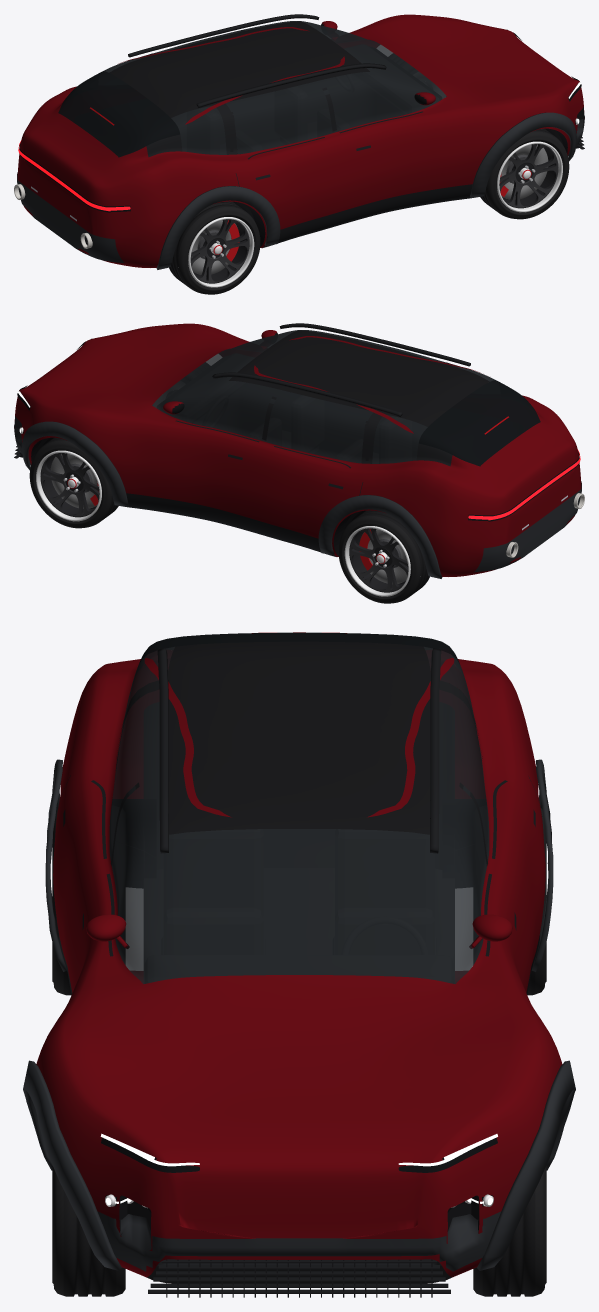
The model's file is vertigo-terra.glb.
3 renders of one model, top to bottom at view 1: azimuth 30°, elevation 25°; view 2: azimuth 150°, elevation 25°; view 3: azimuth 270°, elevation 25°, orthographic. The views are drawn at different scales.
Parts seen in each view (by area): view 1: vertigo-terra_Body, wheel_RR.004, wheel_FR.004, vertigo-terra_CabinTub, vertigo-terra_Rocker_-1, vertigo-terra_ArchFlare_-1_-1.4, vertigo-terra_Dash, vertigo-terra_Diffuser, vertigo-terra_ArchFlare_-1_+1.6, vertigo-terra_SeatBack_0_1, vertigo-terra_SeatBack_1_1, vertigo-terra_Rail_-1 (+7 smaller); view 2: vertigo-terra_Body, wheel_RL.004, wheel_FL.004, vertigo-terra_CabinTub, vertigo-terra_Rocker_1, vertigo-terra_ArchFlare_1_-1.4, vertigo-terra_Diffuser, vertigo-terra_Dash, vertigo-terra_ArchFlare_1_+1.6, vertigo-terra_SeatBack_0_-1, vertigo-terra_SeatBack_1_-1, vertigo-terra_Rail_1 (+7 smaller); view 3: vertigo-terra_Body, vertigo-terra_CabinTub, vertigo-terra_FrontBand, vertigo-terra_SeatBack_1_1, vertigo-terra_SeatBack_1_-1, vertigo-terra_Dash, vertigo-terra_ArchFlare_-1_+1.6, vertigo-terra_ArchFlare_1_+1.6, vertigo-terra_SeatBack_0_-1, wheel_FL.004, wheel_FR.004, vertigo-terra_SeatBack_0_1 (+16 smaller).
Part boxes in pixels (x1,y1,x2,y2): vertigo-terra_Body: (17, 14, 584, 267); wheel_RR.004: (169, 201, 260, 294); wheel_FR.004: (480, 128, 569, 219); vertigo-terra_CabinTub: (134, 47, 441, 151); vertigo-terra_Rocker_-1: (261, 184, 475, 248); vertigo-terra_ArchFlare_-1_-1.4: (156, 186, 280, 269); vertigo-terra_Dash: (345, 45, 439, 113); vertigo-terra_Diffuser: (17, 172, 124, 263); vertigo-terra_ArchFlare_-1_+1.6: (470, 112, 576, 197); vertigo-terra_SeatBack_0_1: (275, 86, 306, 143); vertigo-terra_SeatBack_1_1: (187, 107, 219, 154); vertigo-terra_Rail_-1: (196, 63, 386, 108); vertigo-terra_Body: (14, 323, 581, 576); wheel_RL.004: (338, 510, 429, 603); wheel_FL.004: (29, 437, 118, 528); vertigo-terra_CabinTub: (157, 356, 464, 460); vertigo-terra_Rocker_1: (123, 493, 337, 556); vertigo-terra_ArchFlare_1_-1.4: (318, 495, 442, 578); vertigo-terra_Diffuser: (474, 481, 581, 572); vertigo-terra_Dash: (159, 354, 253, 423); vertigo-terra_ArchFlare_1_+1.6: (22, 421, 128, 506); vertigo-terra_SeatBack_0_-1: (292, 395, 323, 452); vertigo-terra_SeatBack_1_-1: (379, 416, 411, 463); vertigo-terra_Rail_1: (212, 372, 402, 417); vertigo-terra_Body: (36, 632, 562, 1283); vertigo-terra_CabinTub: (144, 702, 454, 963); vertigo-terra_FrontBand: (97, 1211, 501, 1271); vertigo-terra_SeatBack_1_1: (335, 829, 434, 914); vertigo-terra_SeatBack_1_-1: (164, 829, 262, 914); vertigo-terra_Dash: (145, 955, 453, 983); vertigo-terra_ArchFlare_-1_+1.6: (23, 1060, 121, 1270); vertigo-terra_ArchFlare_1_+1.6: (477, 1060, 575, 1270); vertigo-terra_SeatBack_0_-1: (164, 908, 262, 954); wheel_FL.004: (473, 1165, 546, 1296); wheel_FR.004: (52, 1165, 125, 1296); vertigo-terra_SeatBack_0_1: (335, 908, 434, 954).
Bounding box in the file's own units: 4.85 × 1.6 × 2.32.
